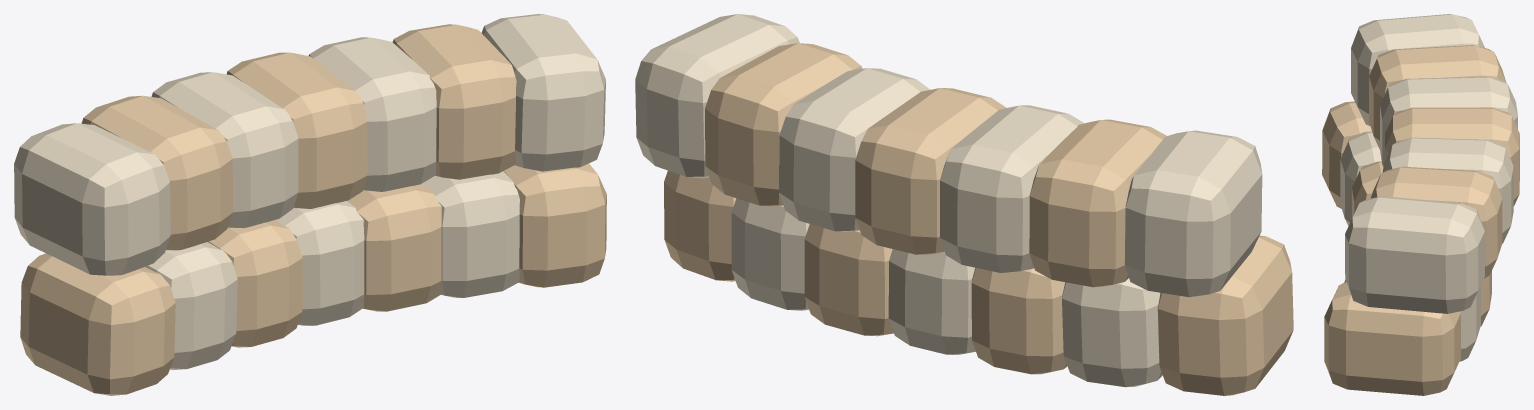
The model's file is Kit_Sandbags.fbx.
3 renders of one model, left to right at view 1: azimuth 30°, elevation 25°; view 2: azimuth 150°, elevation 25°; view 3: azimuth 270°, elevation 25°, orthographic. The views are drawn at different scales.
Visible parts, largest first — view 1: Kit_Sandbags; view 2: Kit_Sandbags; view 3: Kit_Sandbags.
Part boxes in pixels (bbox=[...]): Kit_Sandbags: bbox=[14, 14, 606, 395]; Kit_Sandbags: bbox=[635, 14, 1293, 395]; Kit_Sandbags: bbox=[1322, 14, 1519, 395].
Size of the model in its own units: 2.3 by 0.8487 by 0.8311.
